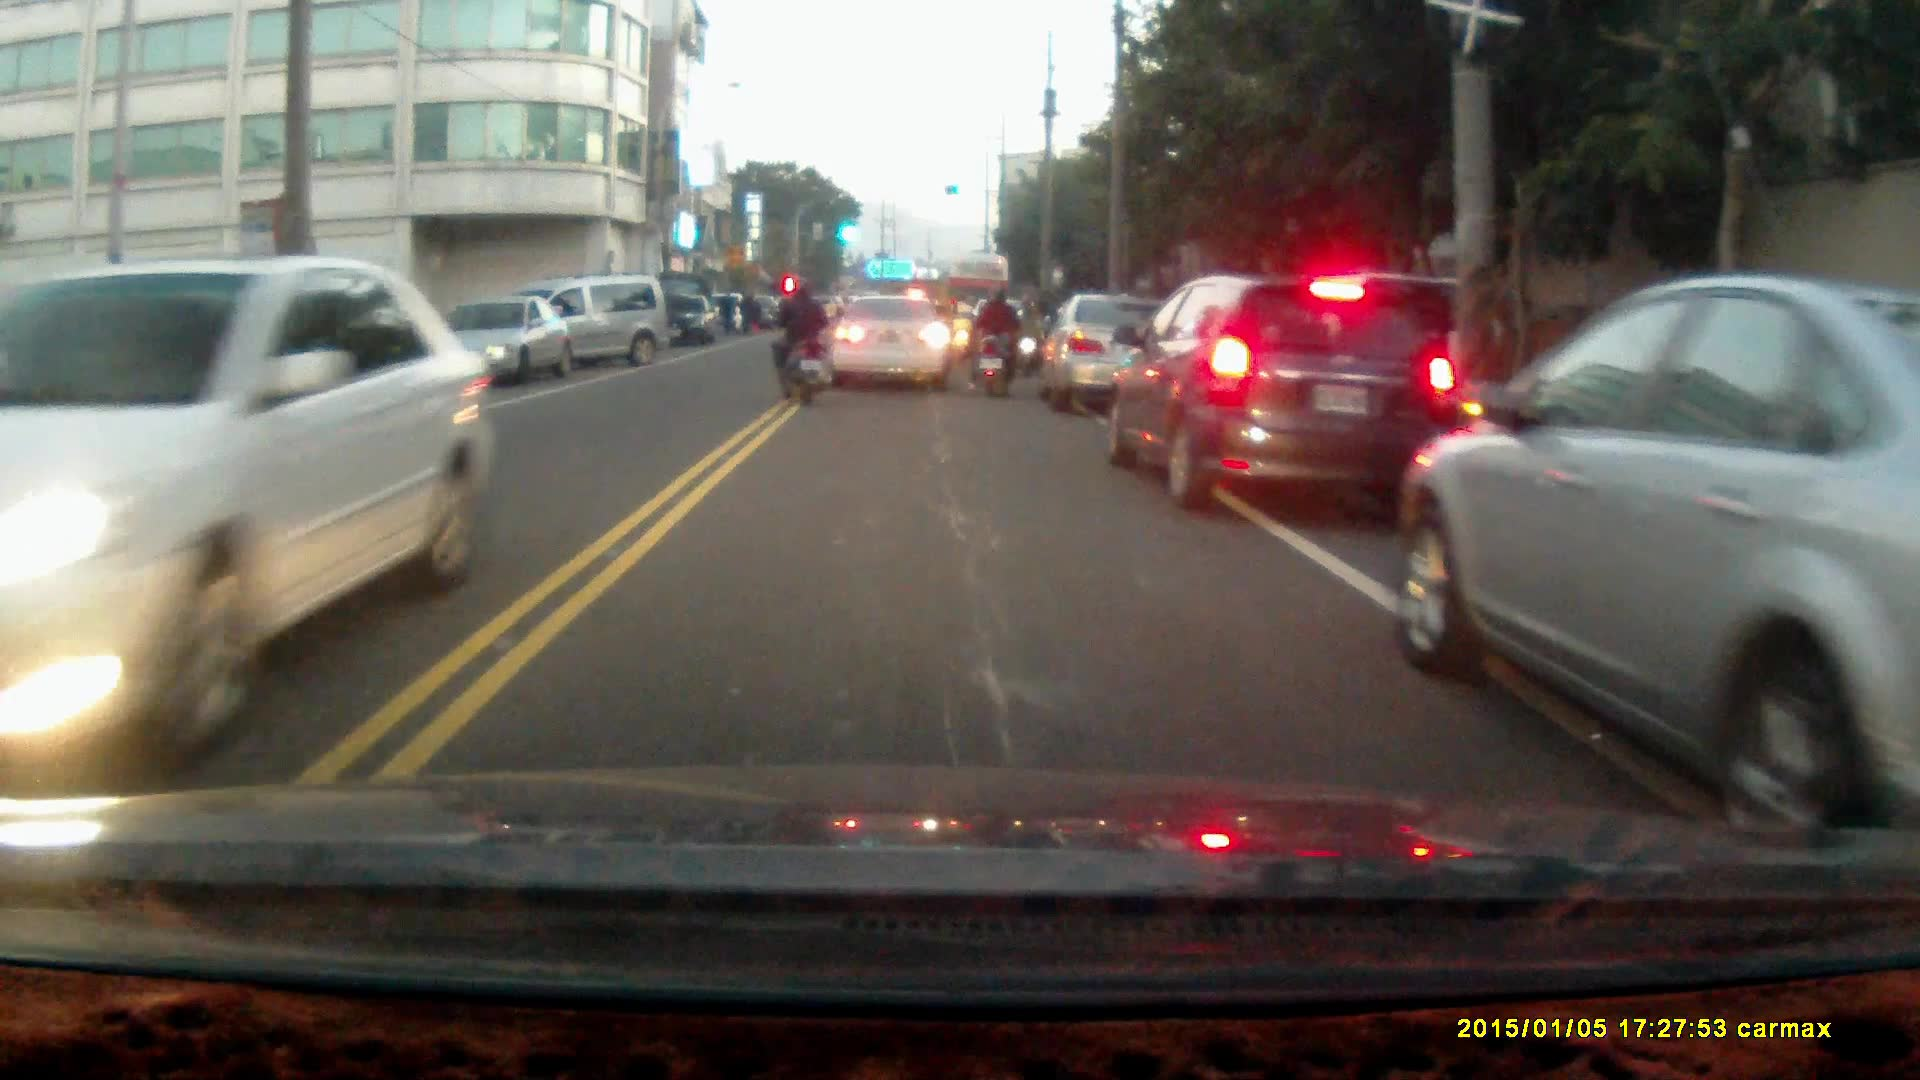rider: (768, 277, 828, 402), (966, 279, 1024, 398)
vehicle: (1403, 268, 1920, 837), (1, 257, 516, 788), (1097, 266, 1457, 508), (412, 290, 577, 388), (1044, 294, 1168, 413), (526, 273, 669, 371), (831, 289, 950, 395), (663, 292, 718, 345)
